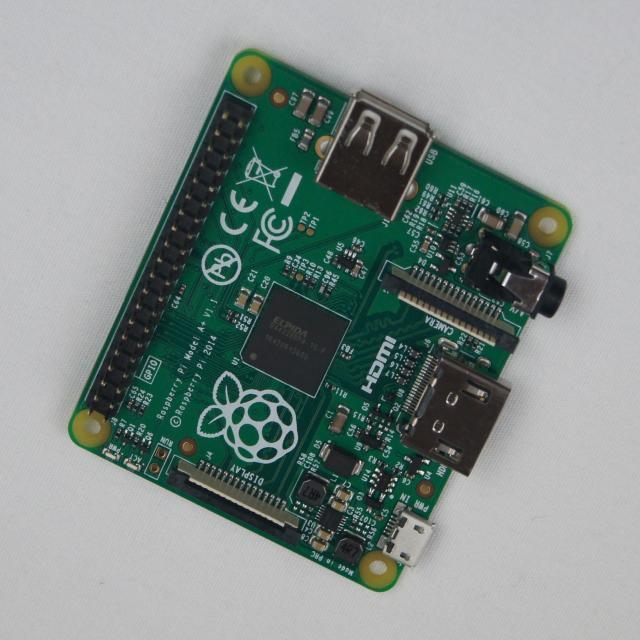Raspberry-Pi-1-A-: (69, 51, 572, 592)
